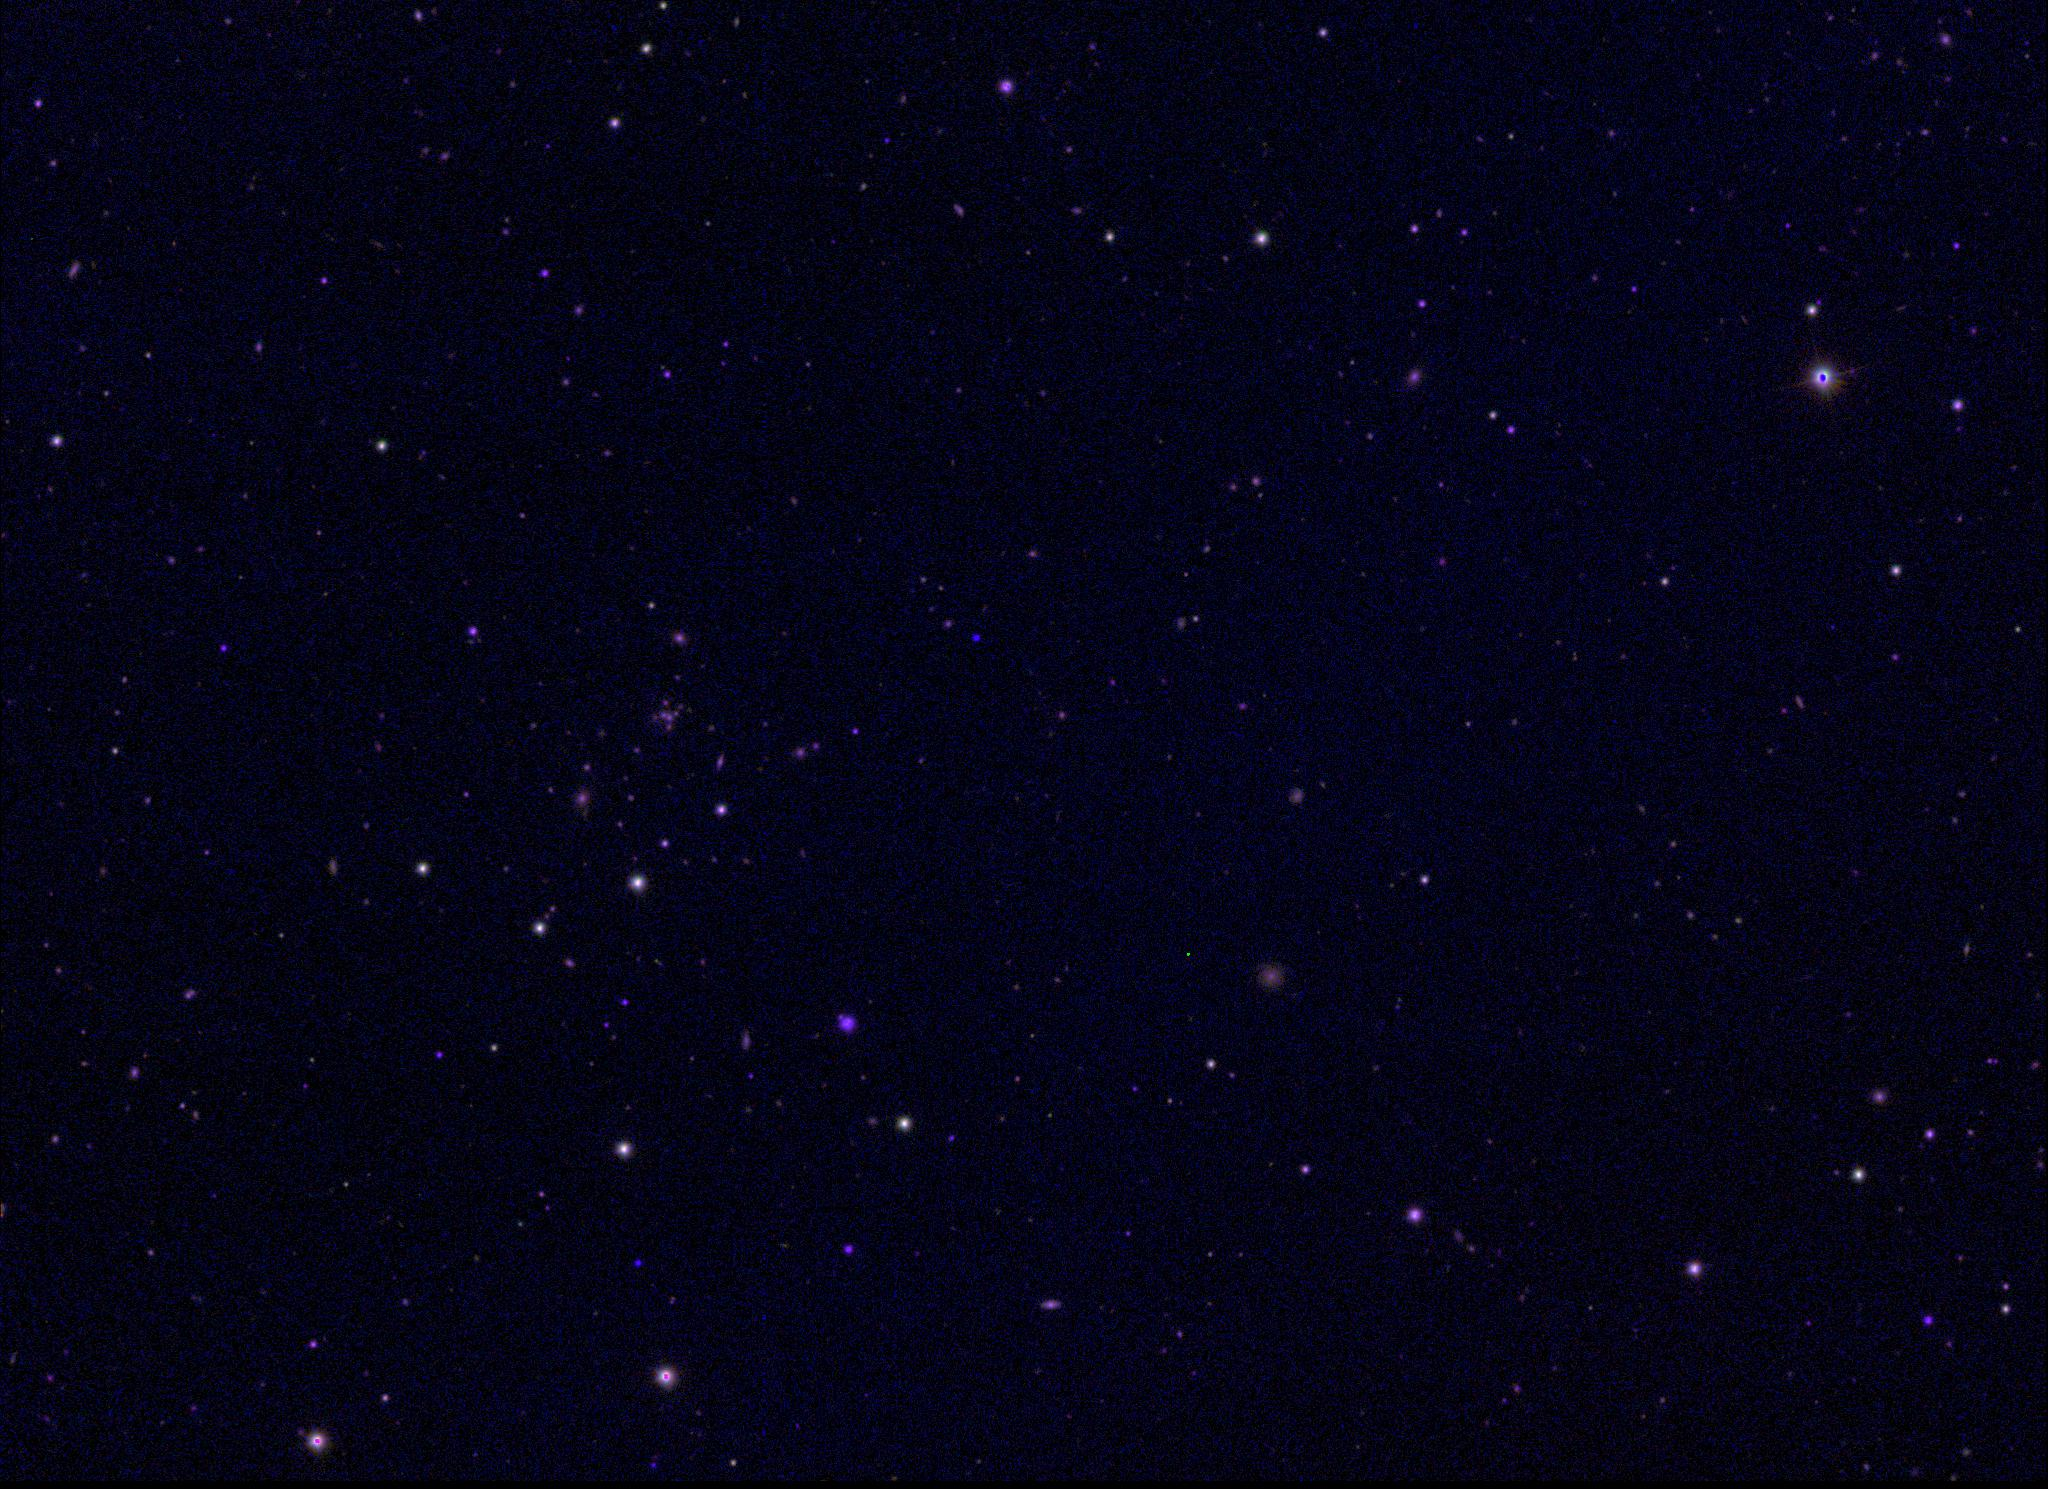L: (968, 630, 983, 644)
